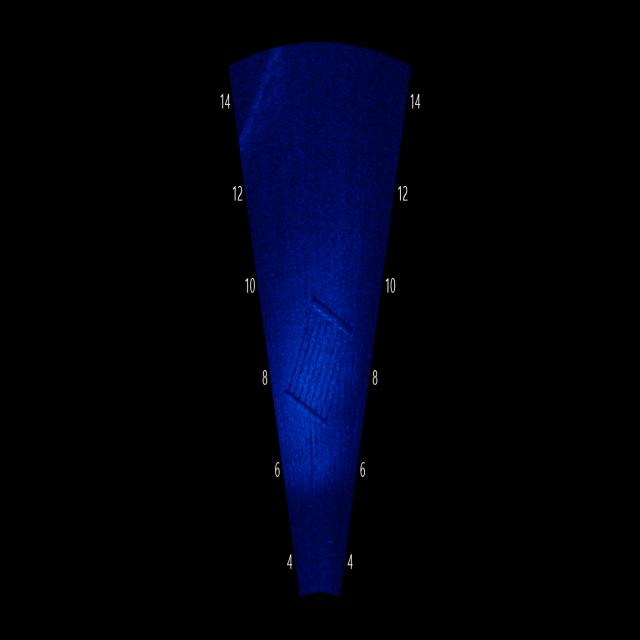square: (283, 248, 356, 439)
